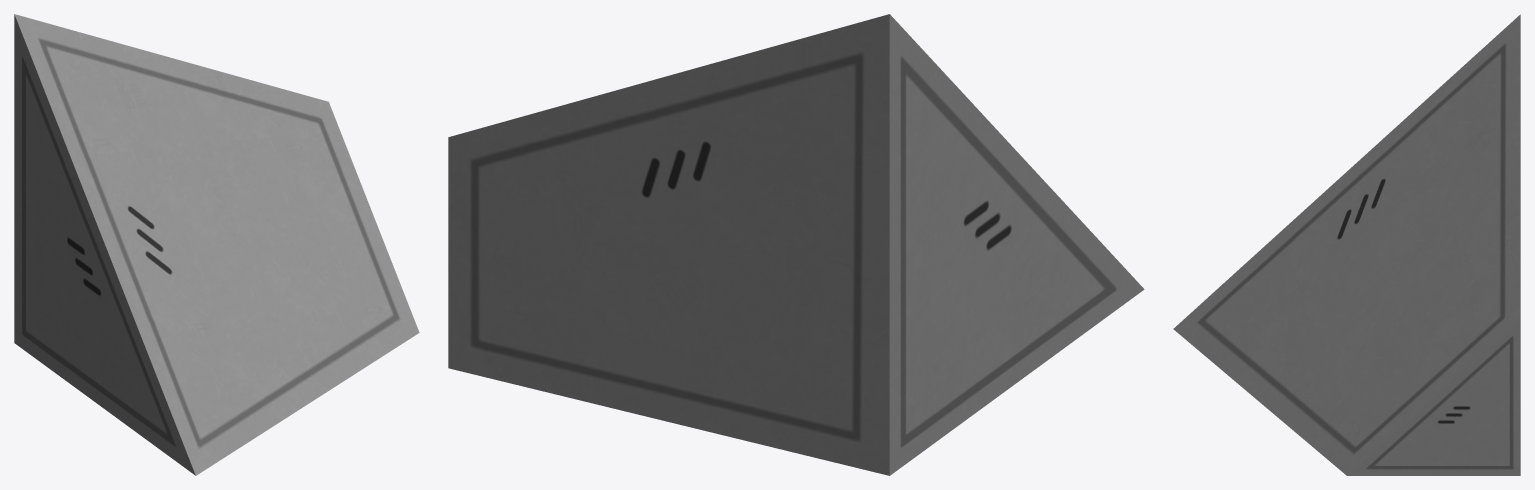
File: LargeBlockArmorCorner2Base.glb
3 renders of one model, left to right at view 1: azimuth 30°, elevation 25°; view 2: azimuth 150°, elevation 25°; view 3: azimuth 270°, elevation 25°, orthographic. The views are drawn at different scales.
Visible parts, largest first — view 1: LargeBlockArmorCorner2Base_part1, LargeBlockArmorCorner2Base_part2; view 2: LargeBlockArmorCorner2Base_part1, LargeBlockArmorCorner2Base_part2; view 3: LargeBlockArmorCorner2Base_part1, LargeBlockArmorCorner2Base_part2.
Boxes of the visible parts, box(x1,y1,x2,y2) form: LargeBlockArmorCorner2Base_part1: box(14, 14, 419, 475); LargeBlockArmorCorner2Base_part2: box(14, 14, 195, 475); LargeBlockArmorCorner2Base_part1: box(448, 14, 889, 475); LargeBlockArmorCorner2Base_part2: box(889, 14, 1144, 475); LargeBlockArmorCorner2Base_part1: box(1173, 14, 1520, 475); LargeBlockArmorCorner2Base_part2: box(1347, 319, 1520, 475).
Bounding box in the file's own units: 2.5 × 2.5 × 2.5.
2 materials, 2 textured.
